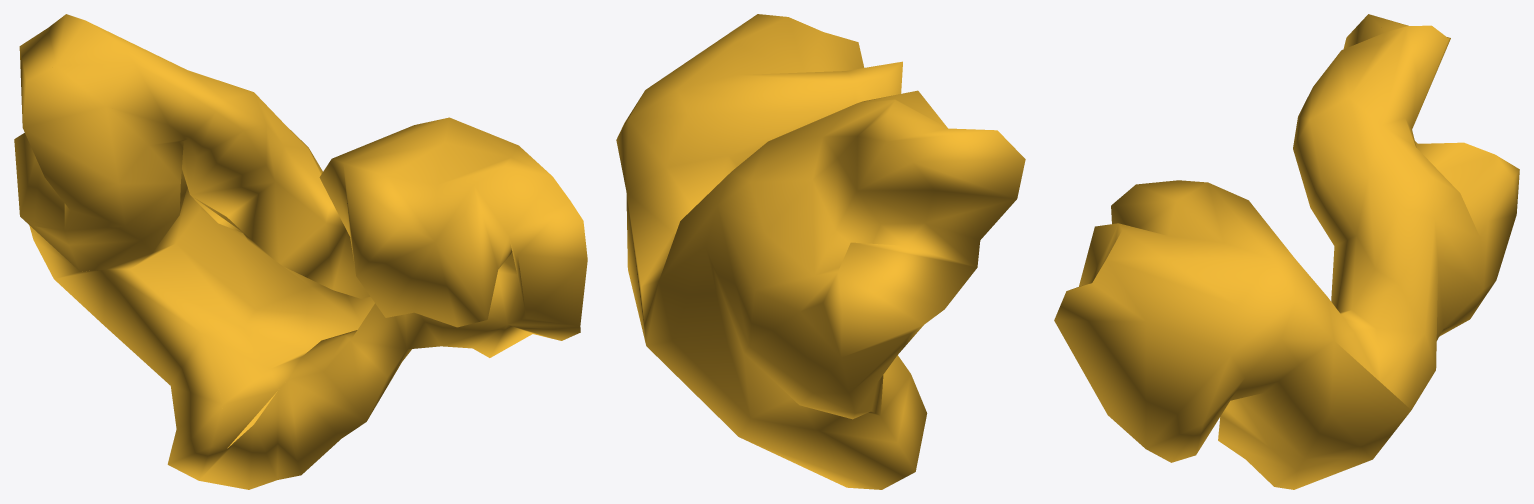
The model's file is nervoso-lat-fis-post-r.glb.
3 views of the same model, side by side, from view 1: azimuth 30°, elevation 25°; view 2: azimuth 150°, elevation 25°; view 3: azimuth 270°, elevation 25° (orthographic). The views are drawn at different scales.
Visible parts, largest first — view 1: Lat_Fis-post.r; view 2: Lat_Fis-post.r; view 3: Lat_Fis-post.r.
Boxes of the visible parts, left/top/right/bottom form: Lat_Fis-post.r: left=14, top=14, right=587, bottom=489; Lat_Fis-post.r: left=616, top=14, right=1025, bottom=489; Lat_Fis-post.r: left=1054, top=14, right=1519, bottom=489.
Bounding box in the file's own units: 0.0246 × 0.023 × 0.0236.
